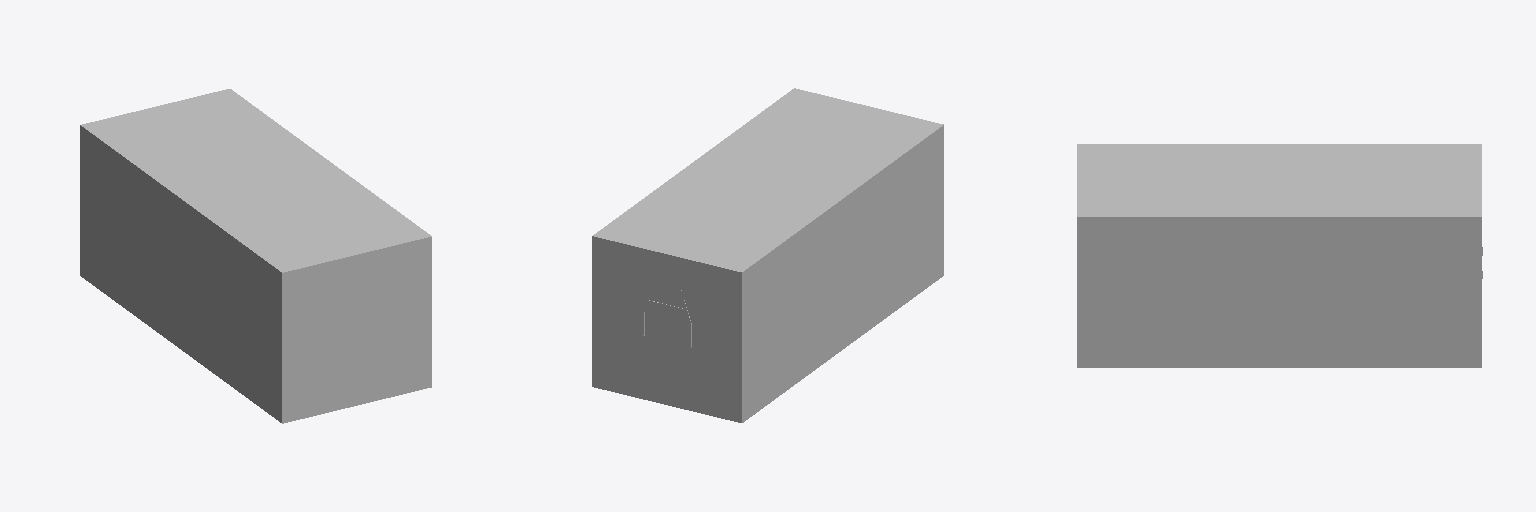
File: meep_overland.obj
3 views of the same model, side by side, from view 1: azimuth 30°, elevation 25°; view 2: azimuth 150°, elevation 25°; view 3: azimuth 270°, elevation 25° (orthographic).
Visible parts, largest first — view 1: Cube_Cube.001; view 2: Cube_Cube.001; view 3: Cube_Cube.001.
Boxes of the visible parts, box(x1,y1,x2,y2) form: Cube_Cube.001: box(80, 89, 431, 423); Cube_Cube.001: box(592, 88, 943, 422); Cube_Cube.001: box(1077, 144, 1481, 367).
Bounding box in the file's own units: 1.4 × 1.34 × 3.27.